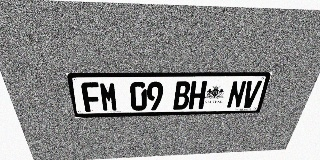0: (130, 82, 146, 111)
9: (147, 81, 163, 110)
B: (173, 81, 191, 110)
F: (80, 82, 102, 112)
H: (188, 81, 207, 109)
M: (99, 82, 118, 111)
N: (226, 81, 247, 108)
V: (240, 80, 262, 108)
